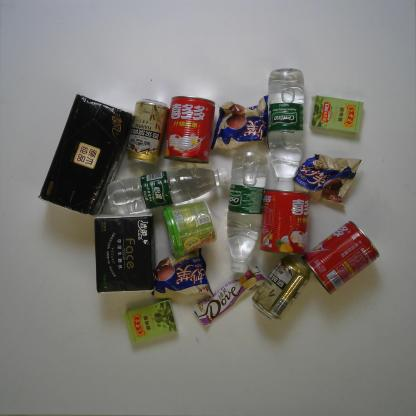Alcohol: (252, 254, 310, 321), (124, 98, 170, 167)
Candy: (123, 296, 178, 344), (309, 92, 367, 137)
Canned Food: (304, 219, 380, 294), (167, 93, 215, 165), (261, 188, 311, 256)
Chocolate: (193, 266, 266, 326)
Dessert: (291, 149, 363, 205), (150, 246, 216, 302), (209, 94, 272, 152)
Drink: (106, 165, 230, 217), (225, 143, 267, 274), (265, 67, 306, 193)
Instant Drink: (160, 200, 217, 258)
Tissue: (39, 93, 134, 215), (89, 212, 158, 295)
